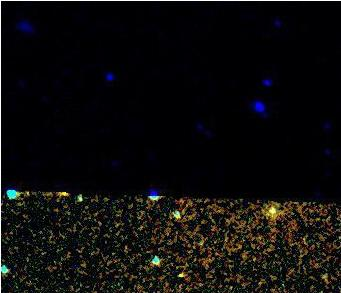star: (166, 260, 196, 290)
